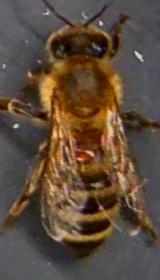varroa_mite: (58, 142, 97, 163)
